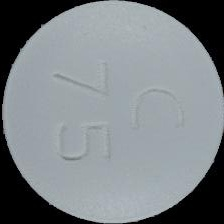65862-064: (0, 0, 224, 224)
